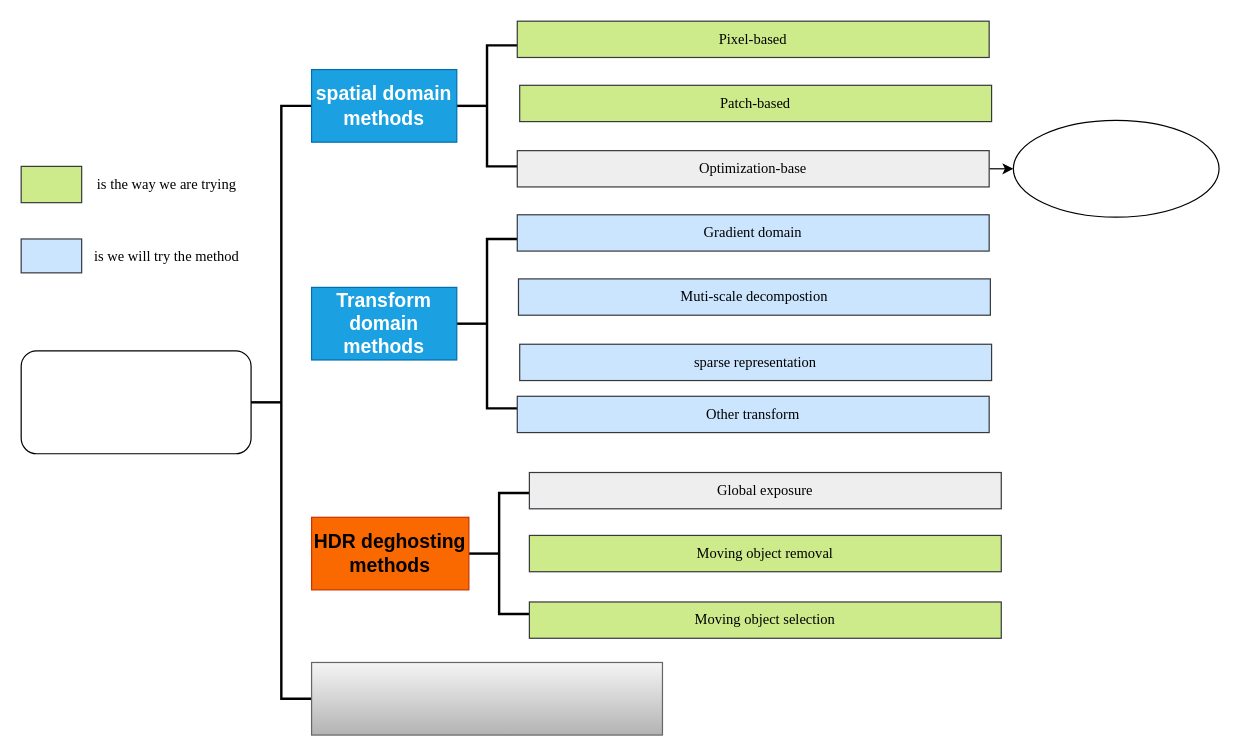
Image size: 1240x756. Some labels were removed from this diagram. The shapes that lost their labels are listed below. From the top down, each one's box as (x1, y1, x2, y2) in pixels, then its label:
(1012, 119, 1219, 217): Computationally heavy
(20, 350, 251, 454): Muti-exposure image fusion
(310, 661, 662, 735): Deep learning methods（omit）
